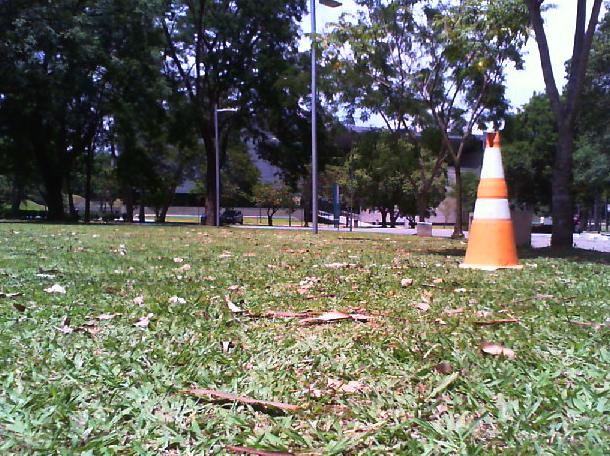0 cone: (461, 132, 522, 269)
